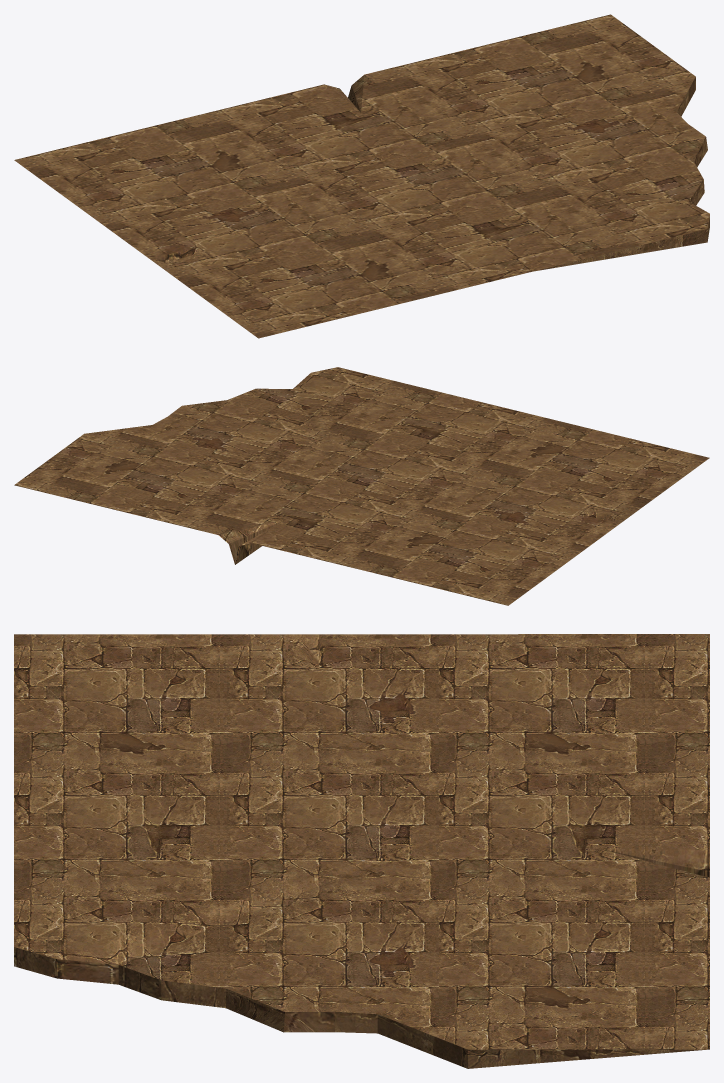
File: Scene_R_dimian_04.FBX
The picture shows the model from 3 angles, top to bottom: view 1: azimuth 30°, elevation 25°; view 2: azimuth 150°, elevation 25°; view 3: azimuth 270°, elevation 25°; orthographic projection. The views are drawn at different scales.
Parts seen in each view (by area): view 1: Scene_R_dimian_04; view 2: Scene_R_dimian_04; view 3: Scene_R_dimian_04.
Boxes of the visible parts, <box> form: Scene_R_dimian_04: <box>14,14,709,338</box>; Scene_R_dimian_04: <box>14,367,709,605</box>; Scene_R_dimian_04: <box>14,634,709,1068</box>.
Bounding box in the file's own units: 34.08 × 1.71 × 24.12.
